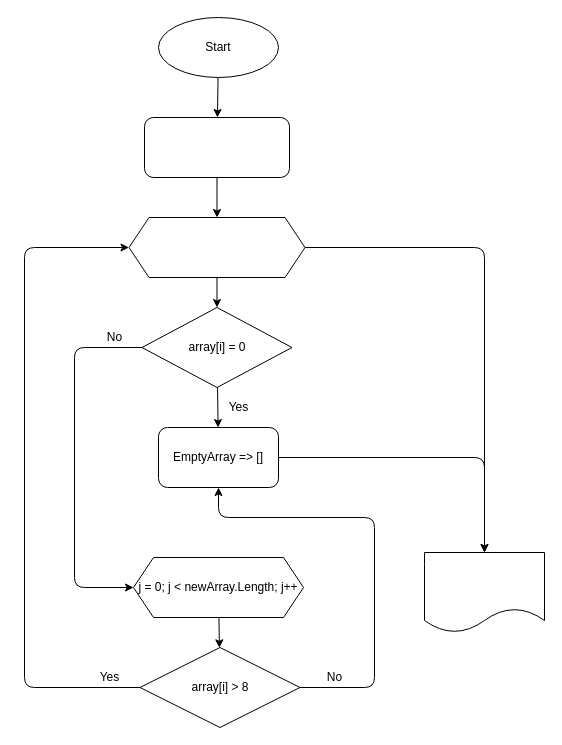
Image size: 562x745. Some labels were removed from this diagram. Here are the shapes that lost their labels. From the top down, the centre of each, then its label:
At [217,147]: "int[] array = new int[10]".
At [216,247]: "i = 0; i < array.Length; i++;".
At [484,592]: "PrintResult".
